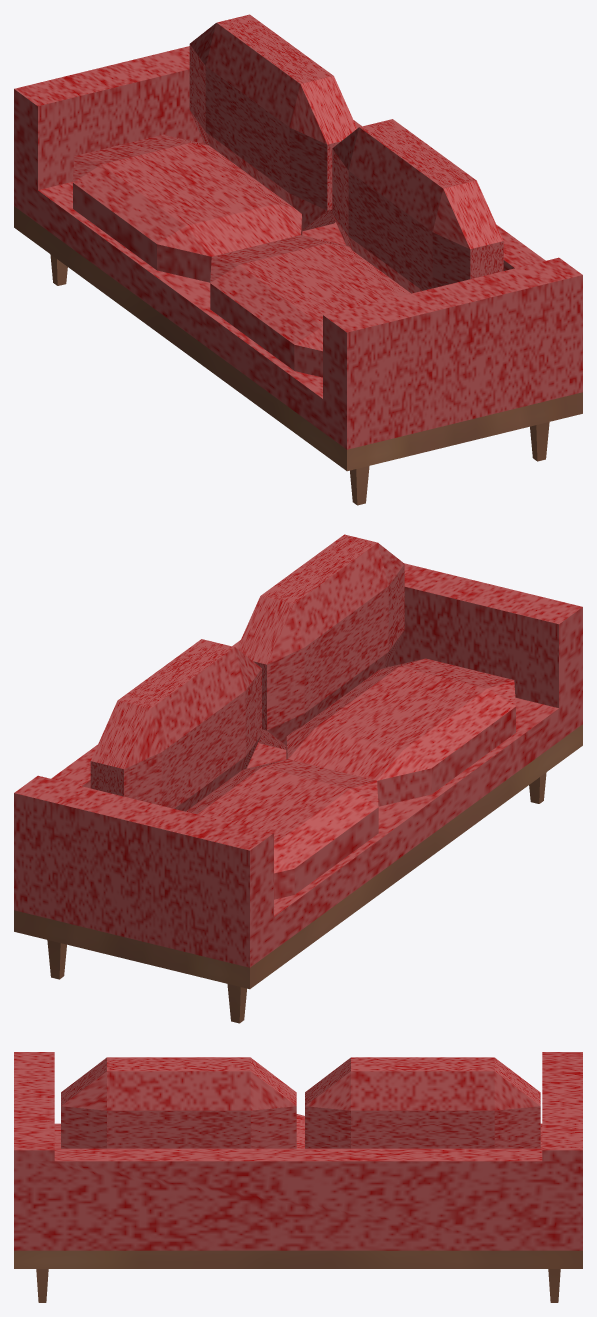
File: CouchMedium.fbx
3 views of the same model, one above another, from view 1: azimuth 30°, elevation 25°; view 2: azimuth 150°, elevation 25°; view 3: azimuth 270°, elevation 25° (orthographic). The views are drawn at different scales.
Visible parts, largest first — view 1: CouchMedium; view 2: CouchMedium; view 3: CouchMedium.
Boxes of the visible parts, x1,y1,x2,y2 form: CouchMedium: [14, 14, 582, 505]; CouchMedium: [14, 534, 582, 1023]; CouchMedium: [14, 1052, 582, 1302].
Bounding box in the file's own units: 123 × 128 × 301.
